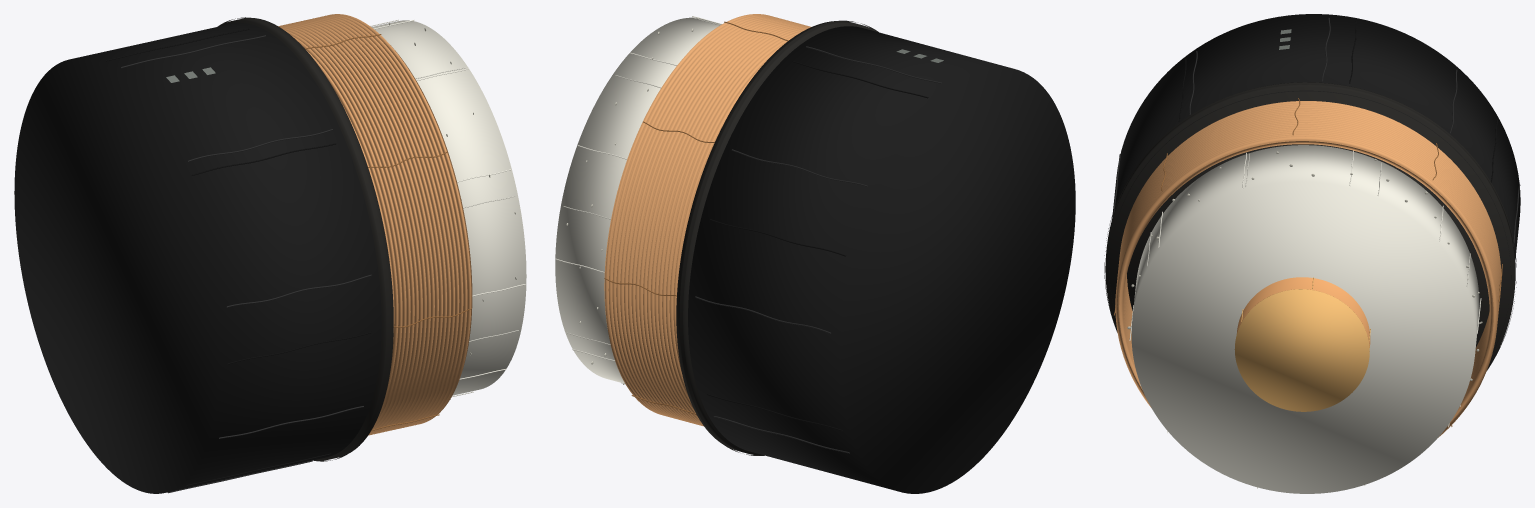
Rendered from rf-lcf114-macro.glb.
3 views of the same model, side by side, from view 1: azimuth 30°, elevation 25°; view 2: azimuth 150°, elevation 25°; view 3: azimuth 270°, elevation 25° (orthographic). The views are drawn at different scales.
Visible parts, largest first — view 1: macro hardline jacket body, annular corrugated solid shield, macro foam dielectric exposed core, hardline jacket cut wall, rounded jacket cut lip; view 2: macro hardline jacket body, annular corrugated solid shield, macro foam dielectric exposed core, hardline jacket cut wall, rounded jacket cut lip; view 3: macro foam dielectric exposed core, macro hardline jacket body, annular corrugated solid shield, hardline jacket cut wall, polished conductor cut face glow, polished solid center conductor, rounded jacket cut lip, inner jacket shadow bevel.
Part boxes in pixels (x1,y1,x2,y2): macro hardline jacket body: (14,23,381,493); annular corrugated solid shield: (278,14,472,435); macro foam dielectric exposed core: (371,20,526,395); hardline jacket cut wall: (218,18,393,460); rounded jacket cut lip: (219,17,390,461); macro hardline jacket body: (688,26,1075,493); annular corrugated solid shield: (604,14,810,426); macro foam dielectric exposed core: (555,17,720,383); hardline jacket cut wall: (676,21,877,455); rounded jacket cut lip: (679,20,878,455); macro foam dielectric exposed core: (1131,145,1479,493); macro hardline jacket body: (1112,14,1520,259); annular corrugated solid shield: (1115,101,1501,437); hardline jacket cut wall: (1105,82,1515,369); polished conductor cut face glow: (1234,289,1369,411); polished solid center conductor: (1237,277,1370,347); rounded jacket cut lip: (1104,82,1516,370); inner jacket shadow bevel: (1109,90,1511,351).
Bounding box in the file's own units: 6.64 × 7.33 × 7.39.
